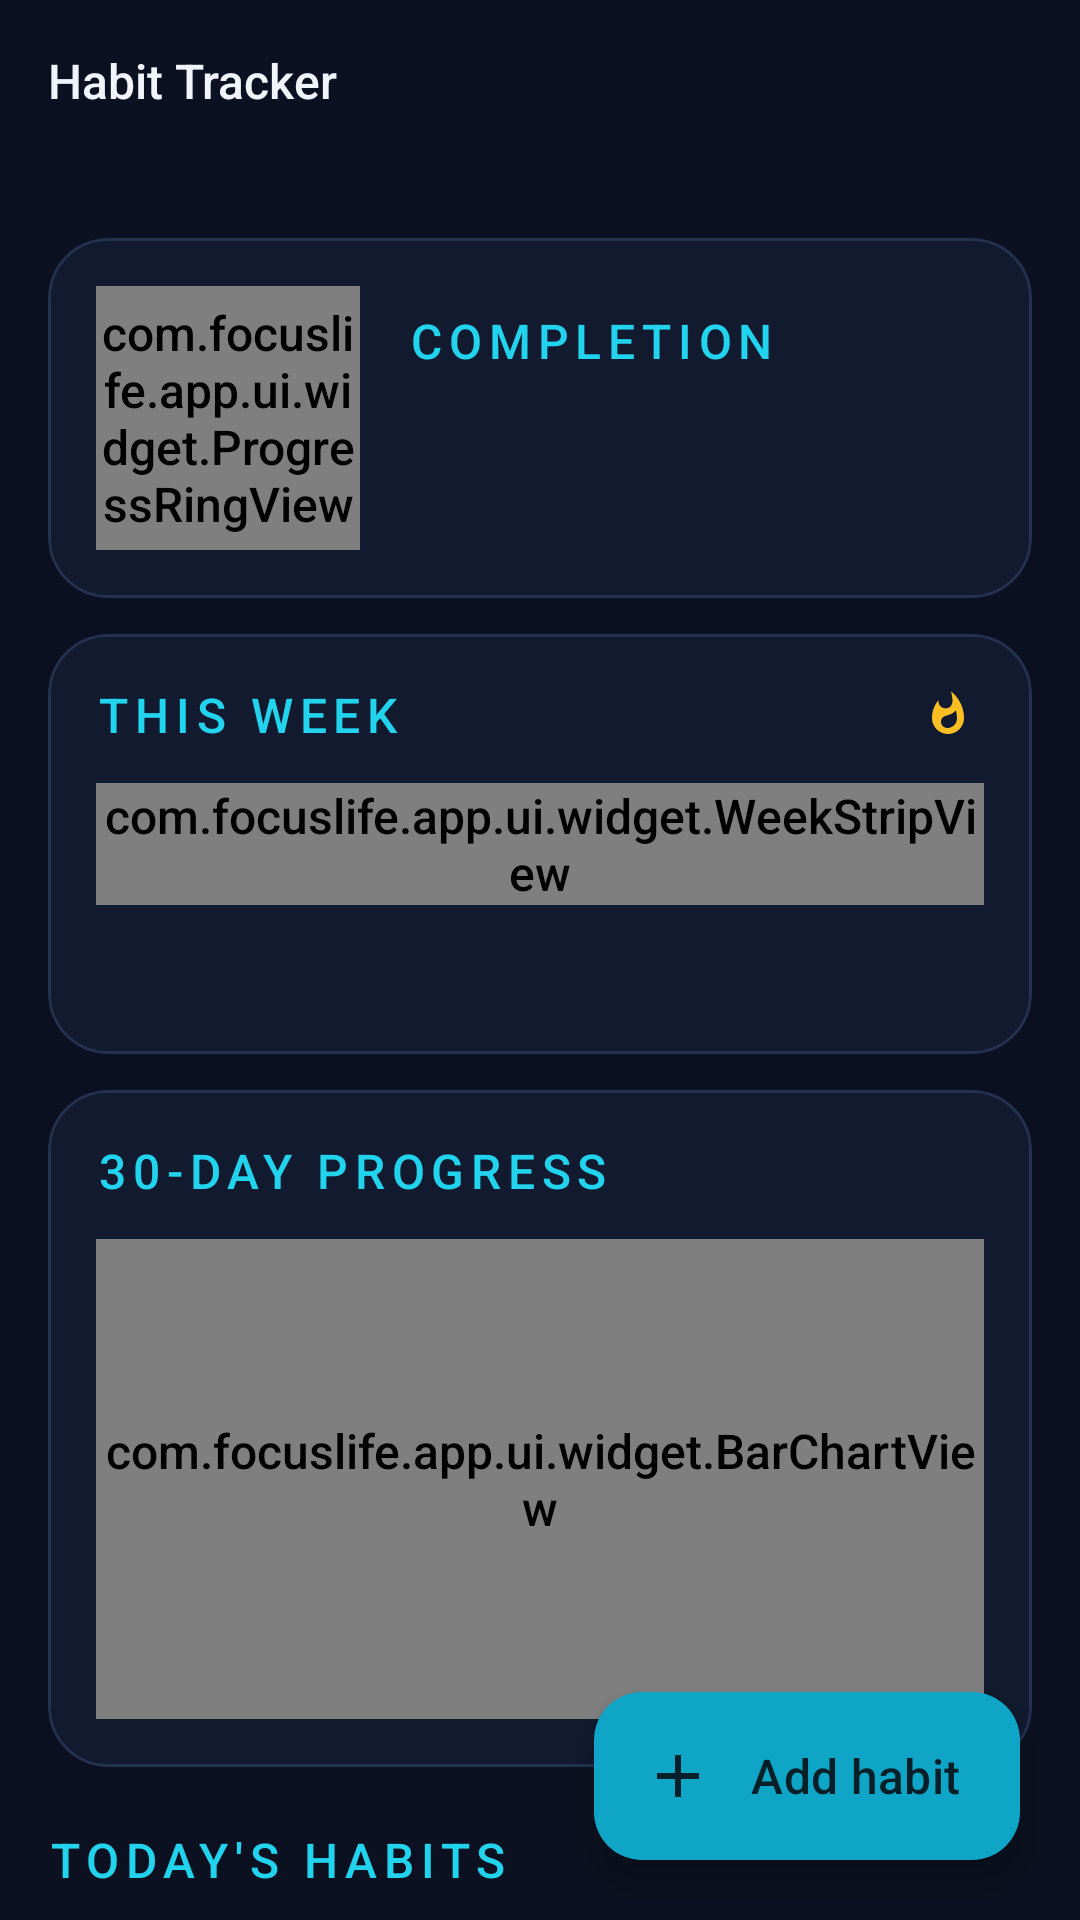

Screen size 1080w x 1920h. Icon name, then its center in pixels as (x,y):
local fire: (948,712)
